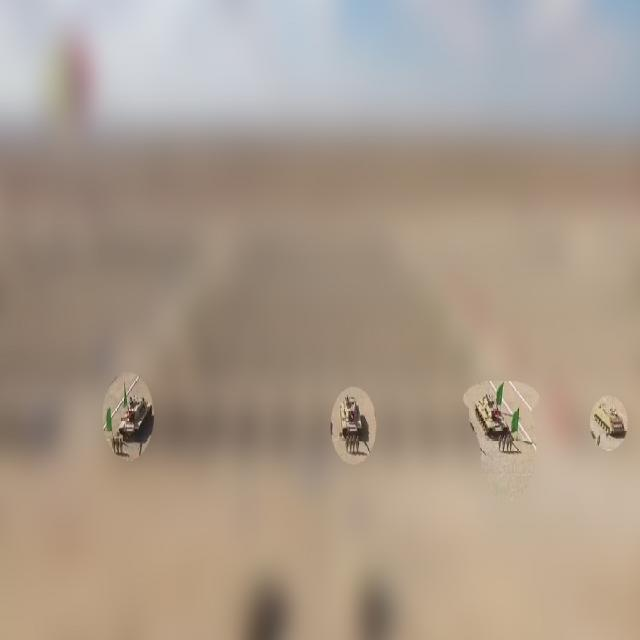tank: (115, 390, 153, 444), (337, 396, 372, 452), (474, 392, 518, 436), (595, 401, 626, 439)
